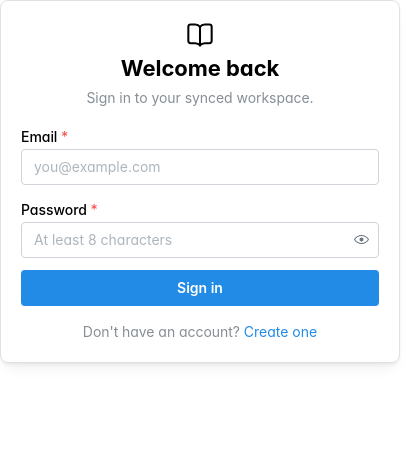
Login form › shows error from sign-in
In the field labelled "Email *": (200, 167) [21, 149, 379, 185], type "a@b.com"
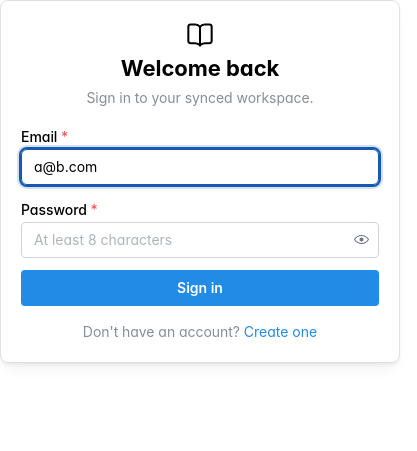
In the password field labelled "Password *": (200, 240) [22, 223, 378, 257], type "password1"
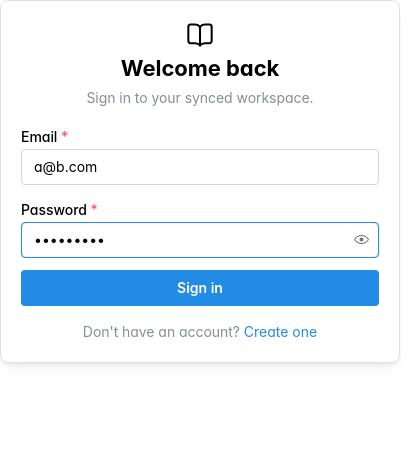
Click the button "Sign in": (200, 288) [21, 270, 379, 306]
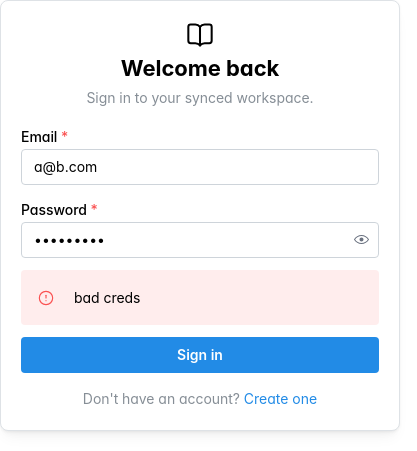
Now the text "bad creds" is shown, box [74, 289, 140, 306]
